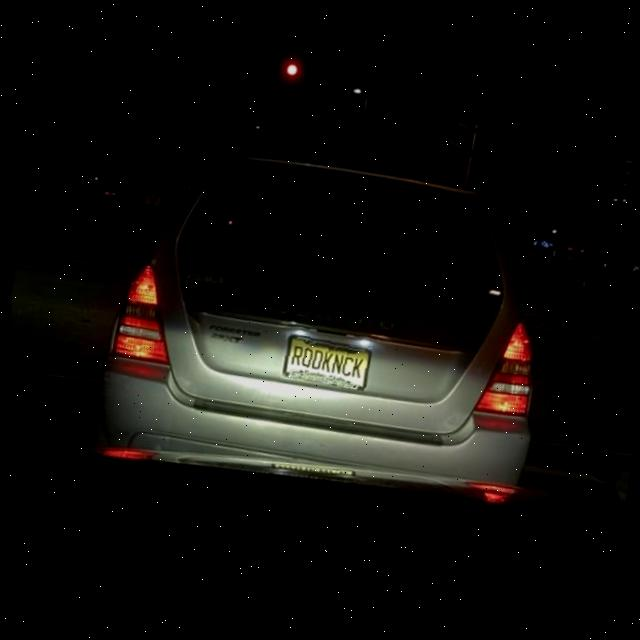LicensePlate: (277, 334, 368, 394)
